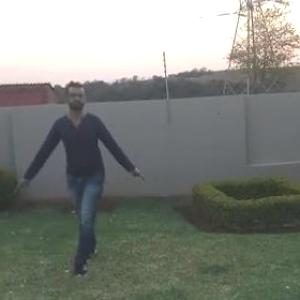land: (11, 74, 136, 284)
